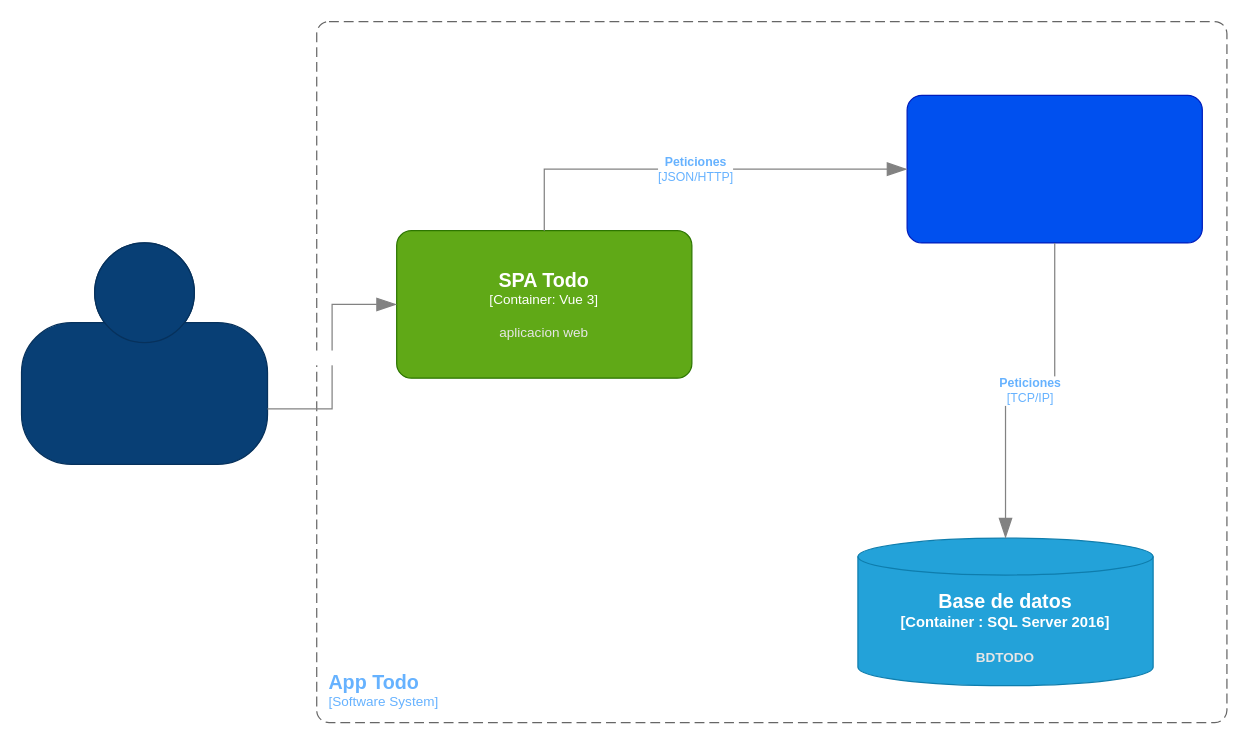
This 1248x744 diagram has some shape labels left out. The shapes that lost their labels are listed below. From the top down, each one's centre as x and y in pixels, then its label:
At [1054,168]: "ApiTodo [Container: NetCore 3.1] WebApi Todo".
At [144,353]: "Usuario [Person] yo".
